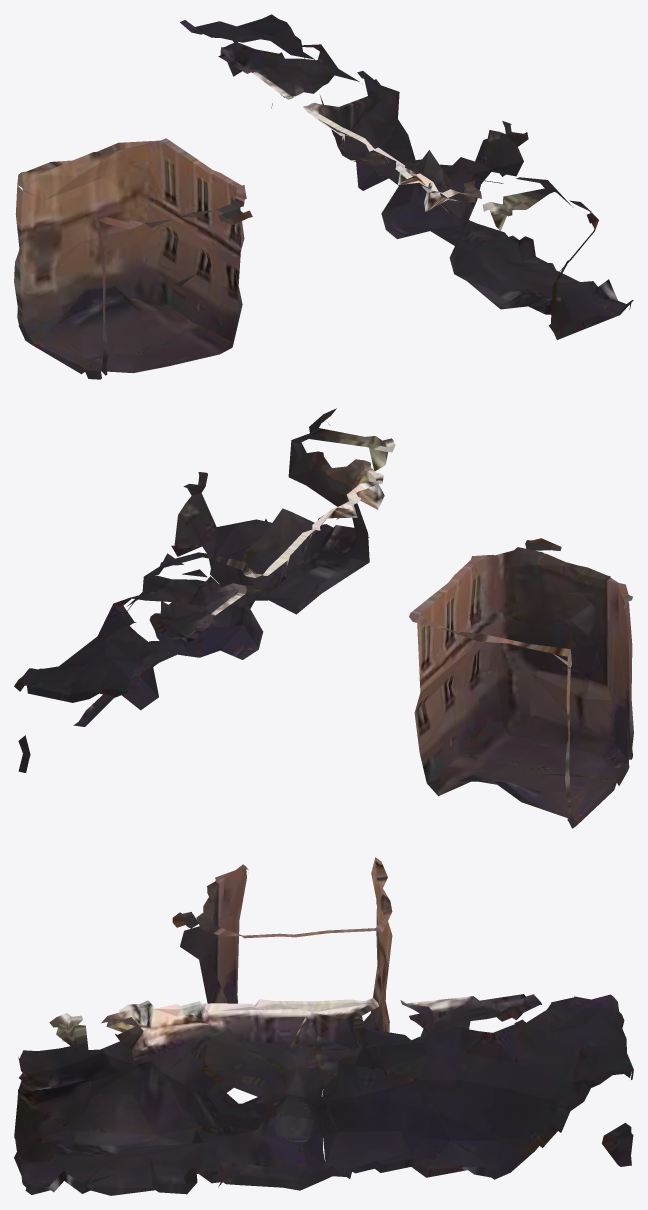
The picture shows the model from 3 angles, top to bottom: view 1: azimuth 30°, elevation 25°; view 2: azimuth 150°, elevation 25°; view 3: azimuth 270°, elevation 25°; orthographic projection. The views are drawn at different scales.
Parts seen in each view (by area): view 1: Mesh_0; view 2: Mesh_0; view 3: Mesh_0.
Boxes of the visible parts, bbox=[...] form: Mesh_0: bbox=[14, 14, 633, 379]; Mesh_0: bbox=[14, 408, 633, 828]; Mesh_0: bbox=[14, 857, 633, 1195].
Size of the model in its own units: 32.22 by 12 by 38.78.
1 material, 1 textured.
